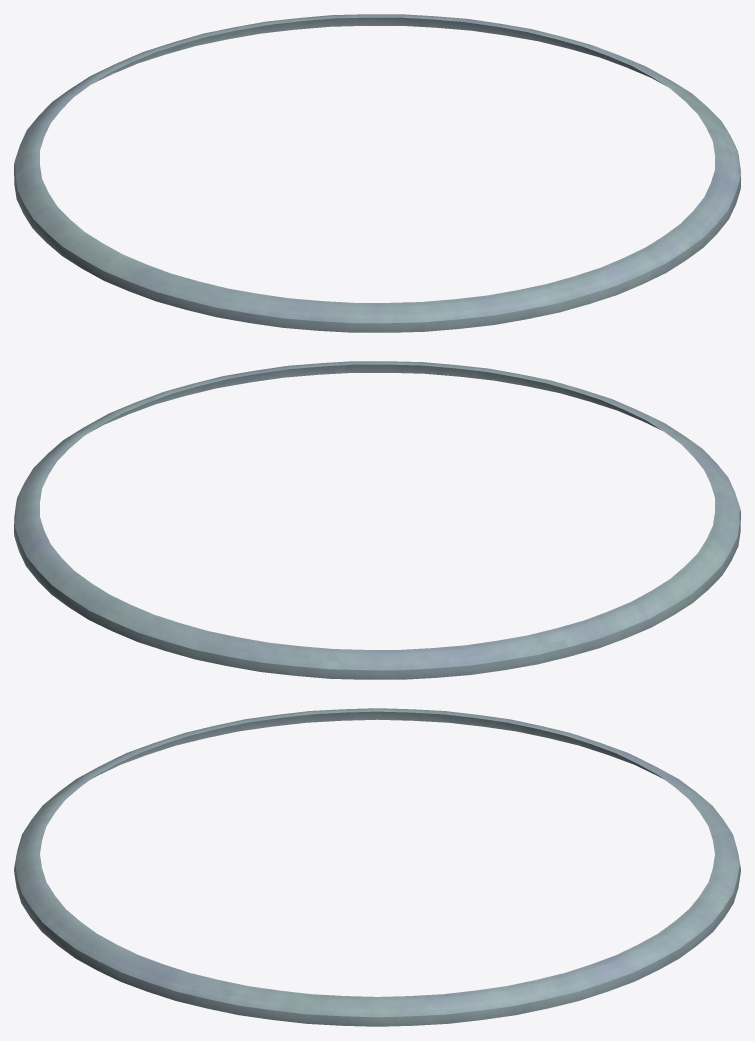
The model's file is newpinballplaybase1.fbx.
The picture shows the model from 3 angles, top to bottom: view 1: azimuth 30°, elevation 25°; view 2: azimuth 150°, elevation 25°; view 3: azimuth 270°, elevation 25°; orthographic projection.
Parts seen in each view (by area): view 1: newpinballplaybase1; view 2: newpinballplaybase1; view 3: newpinballplaybase1.
Boxes of the visible parts, x1,y1,x2,y2 form: newpinballplaybase1: [14, 14, 740, 332]; newpinballplaybase1: [14, 361, 740, 679]; newpinballplaybase1: [14, 708, 740, 1026].
Bounding box in the file's own units: 65.49 × 1.89 × 65.49.
